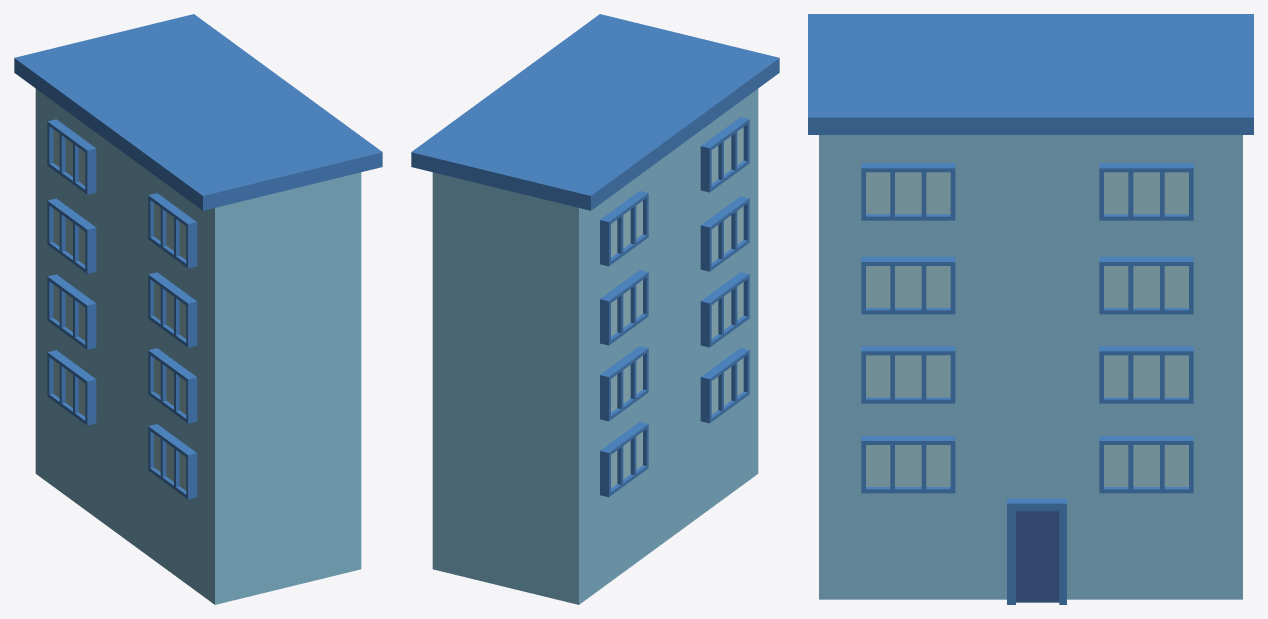
The model's file is 1_house_tall.fbx.
3 renders of one model, left to right at view 1: azimuth 30°, elevation 25°; view 2: azimuth 150°, elevation 25°; view 3: azimuth 270°, elevation 25°, orthographic. The views are drawn at different scales.
Parts seen in each view (by area): view 1: Cube.026; view 2: Cube.026; view 3: Cube.026.
Part boxes in pixels (x1,y1,x2,y2): Cube.026: (14,14,382,604); Cube.026: (411,14,779,604); Cube.026: (808,14,1253,604).
Bounding box in the file's own units: 173 × 383 × 315.
